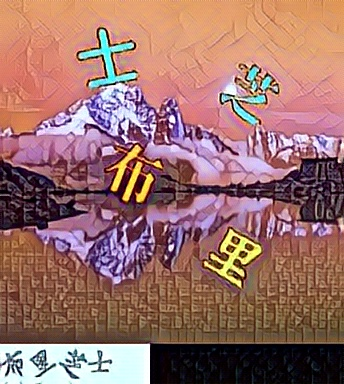B2BC: (100, 139, 164, 205)
C0EF: (197, 225, 261, 291)
CABF: (75, 24, 139, 90)
D6A5: (213, 61, 277, 127)
